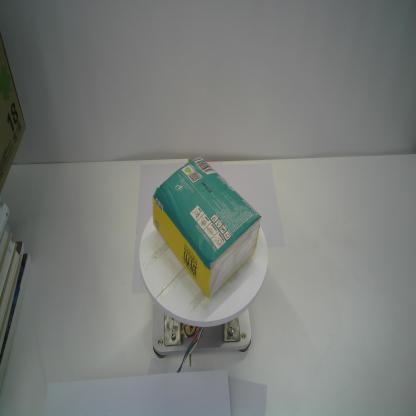Tissue: (151, 153, 263, 301)
